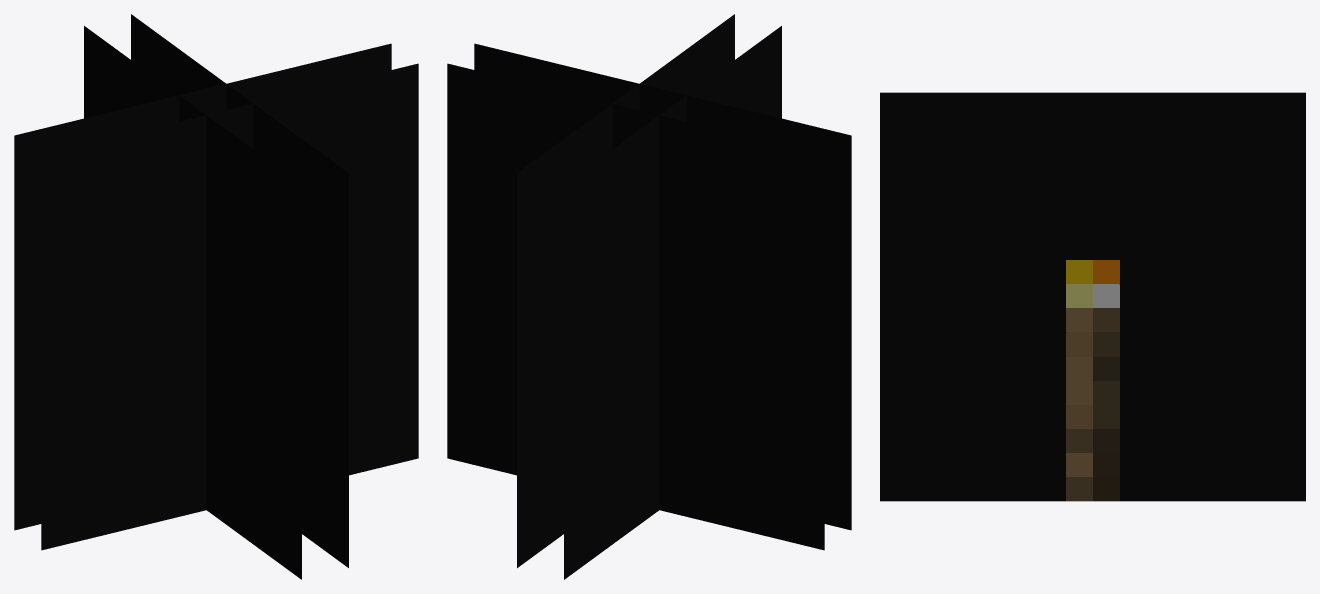
Rendered from TorchMesh.glb.
3 renders of one model, left to right at view 1: azimuth 30°, elevation 25°; view 2: azimuth 150°, elevation 25°; view 3: azimuth 270°, elevation 25°, orthographic. The views are drawn at different scales.
Visible parts, largest first — view 1: torch; view 2: torch; view 3: torch.
Boxes of the visible parts, x1,y1,x2,y2 form: torch: (14, 14, 418, 579); torch: (447, 14, 851, 579); torch: (880, 92, 1305, 501).
Size of the model in its own units: 1 by 1 by 1.
Materials: 1 (1 with a texture image).
